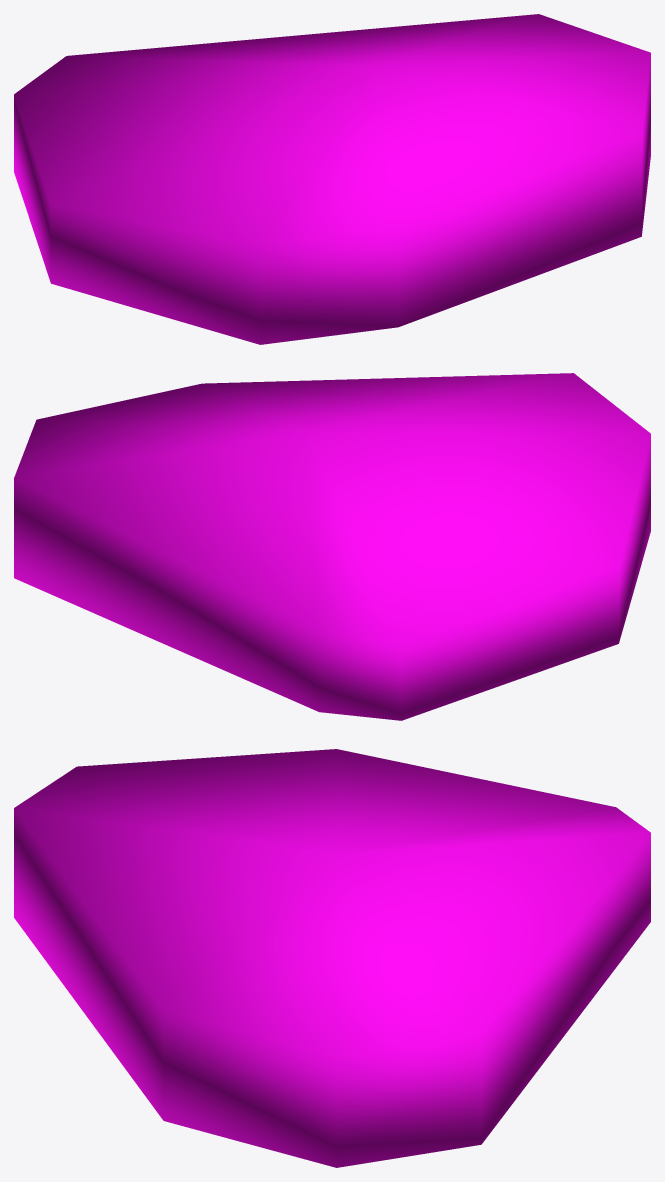
Rendered from beef_meshCollider.fbx.
3 renders of one model, top to bottom at view 1: azimuth 30°, elevation 25°; view 2: azimuth 150°, elevation 25°; view 3: azimuth 270°, elevation 25°, orthographic. The views are drawn at different scales.
Visible parts, largest first — view 1: foods_meat_beef_meshCollider; view 2: foods_meat_beef_meshCollider; view 3: foods_meat_beef_meshCollider.
Part boxes in pixels (x1,y1,x2,y2): foods_meat_beef_meshCollider: [14, 14, 650, 344]; foods_meat_beef_meshCollider: [14, 373, 650, 720]; foods_meat_beef_meshCollider: [14, 749, 650, 1167].
Bounding box in the file's own units: 20.13 × 5.29 × 17.27.
